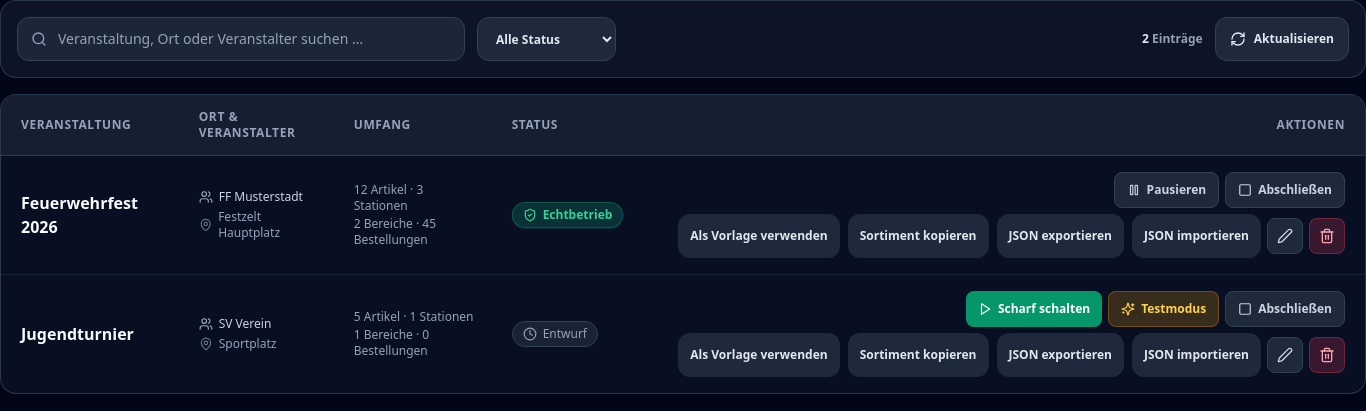
AdminEventsView › filtert nach Status
Select "Entwurf" in the dropdown named "Status filtern" at (546, 39), box [477,17,616,61]
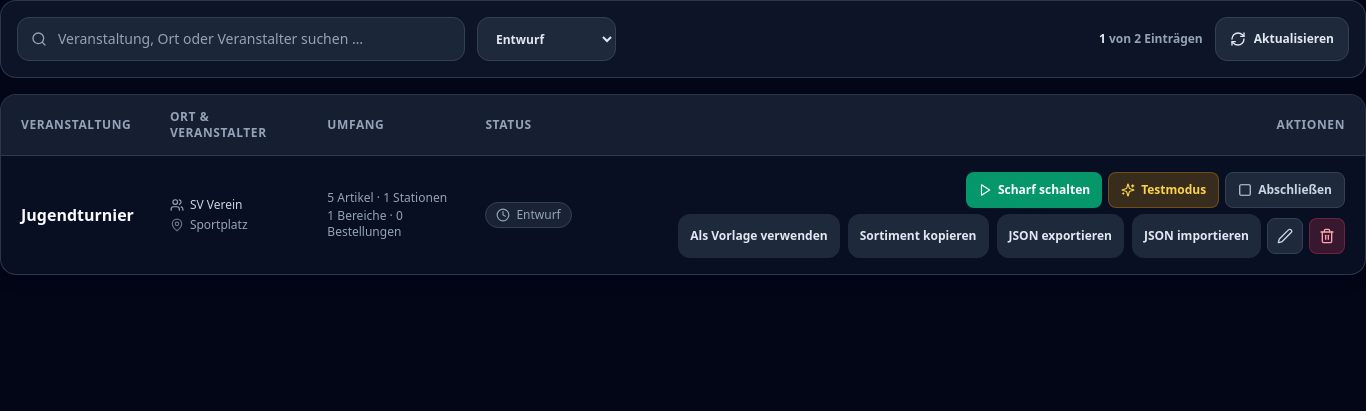
Check: the text "Jugendturnier" is shown, box [21,203,134,227]
Check: the text "Feuerwehrfest 2026" is gone
